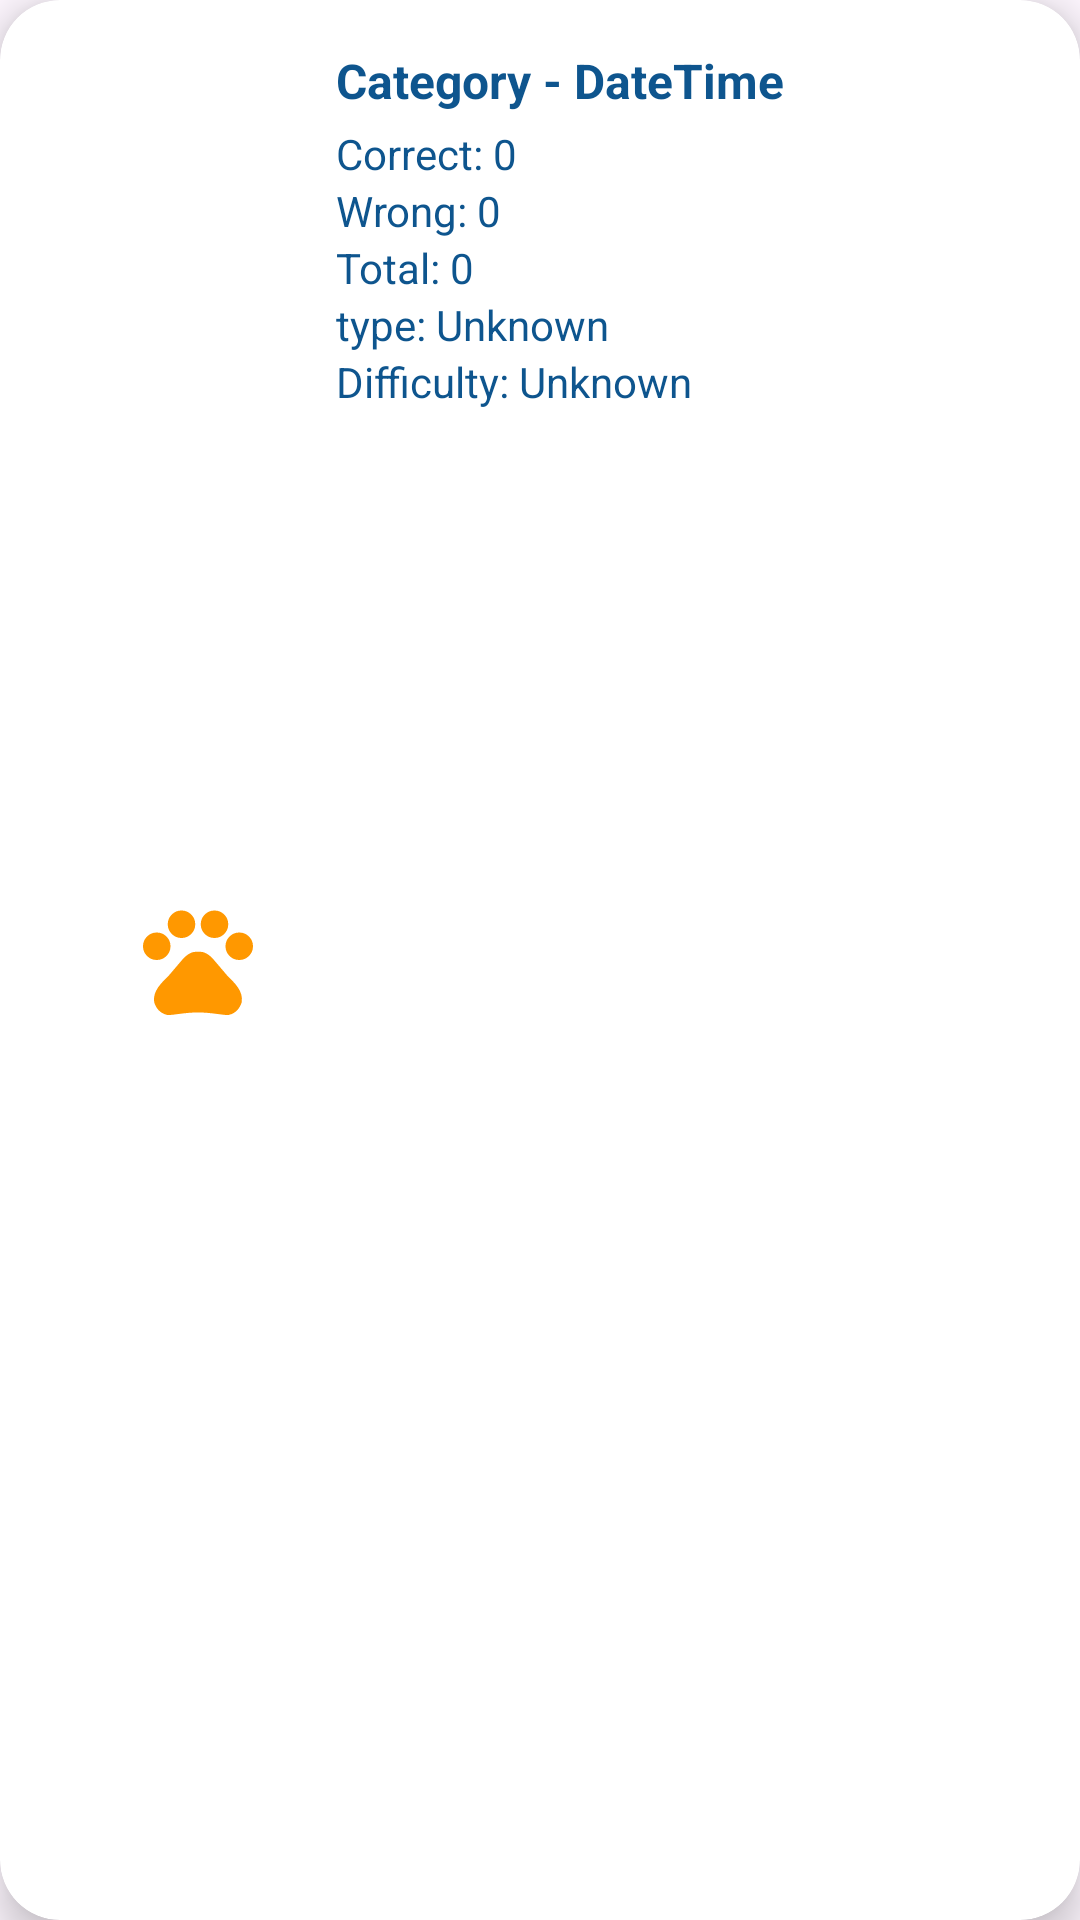

Named icons in this screenshot (1080px x 1920px) and their centers, point (x, y):
animals: point (198, 962)
